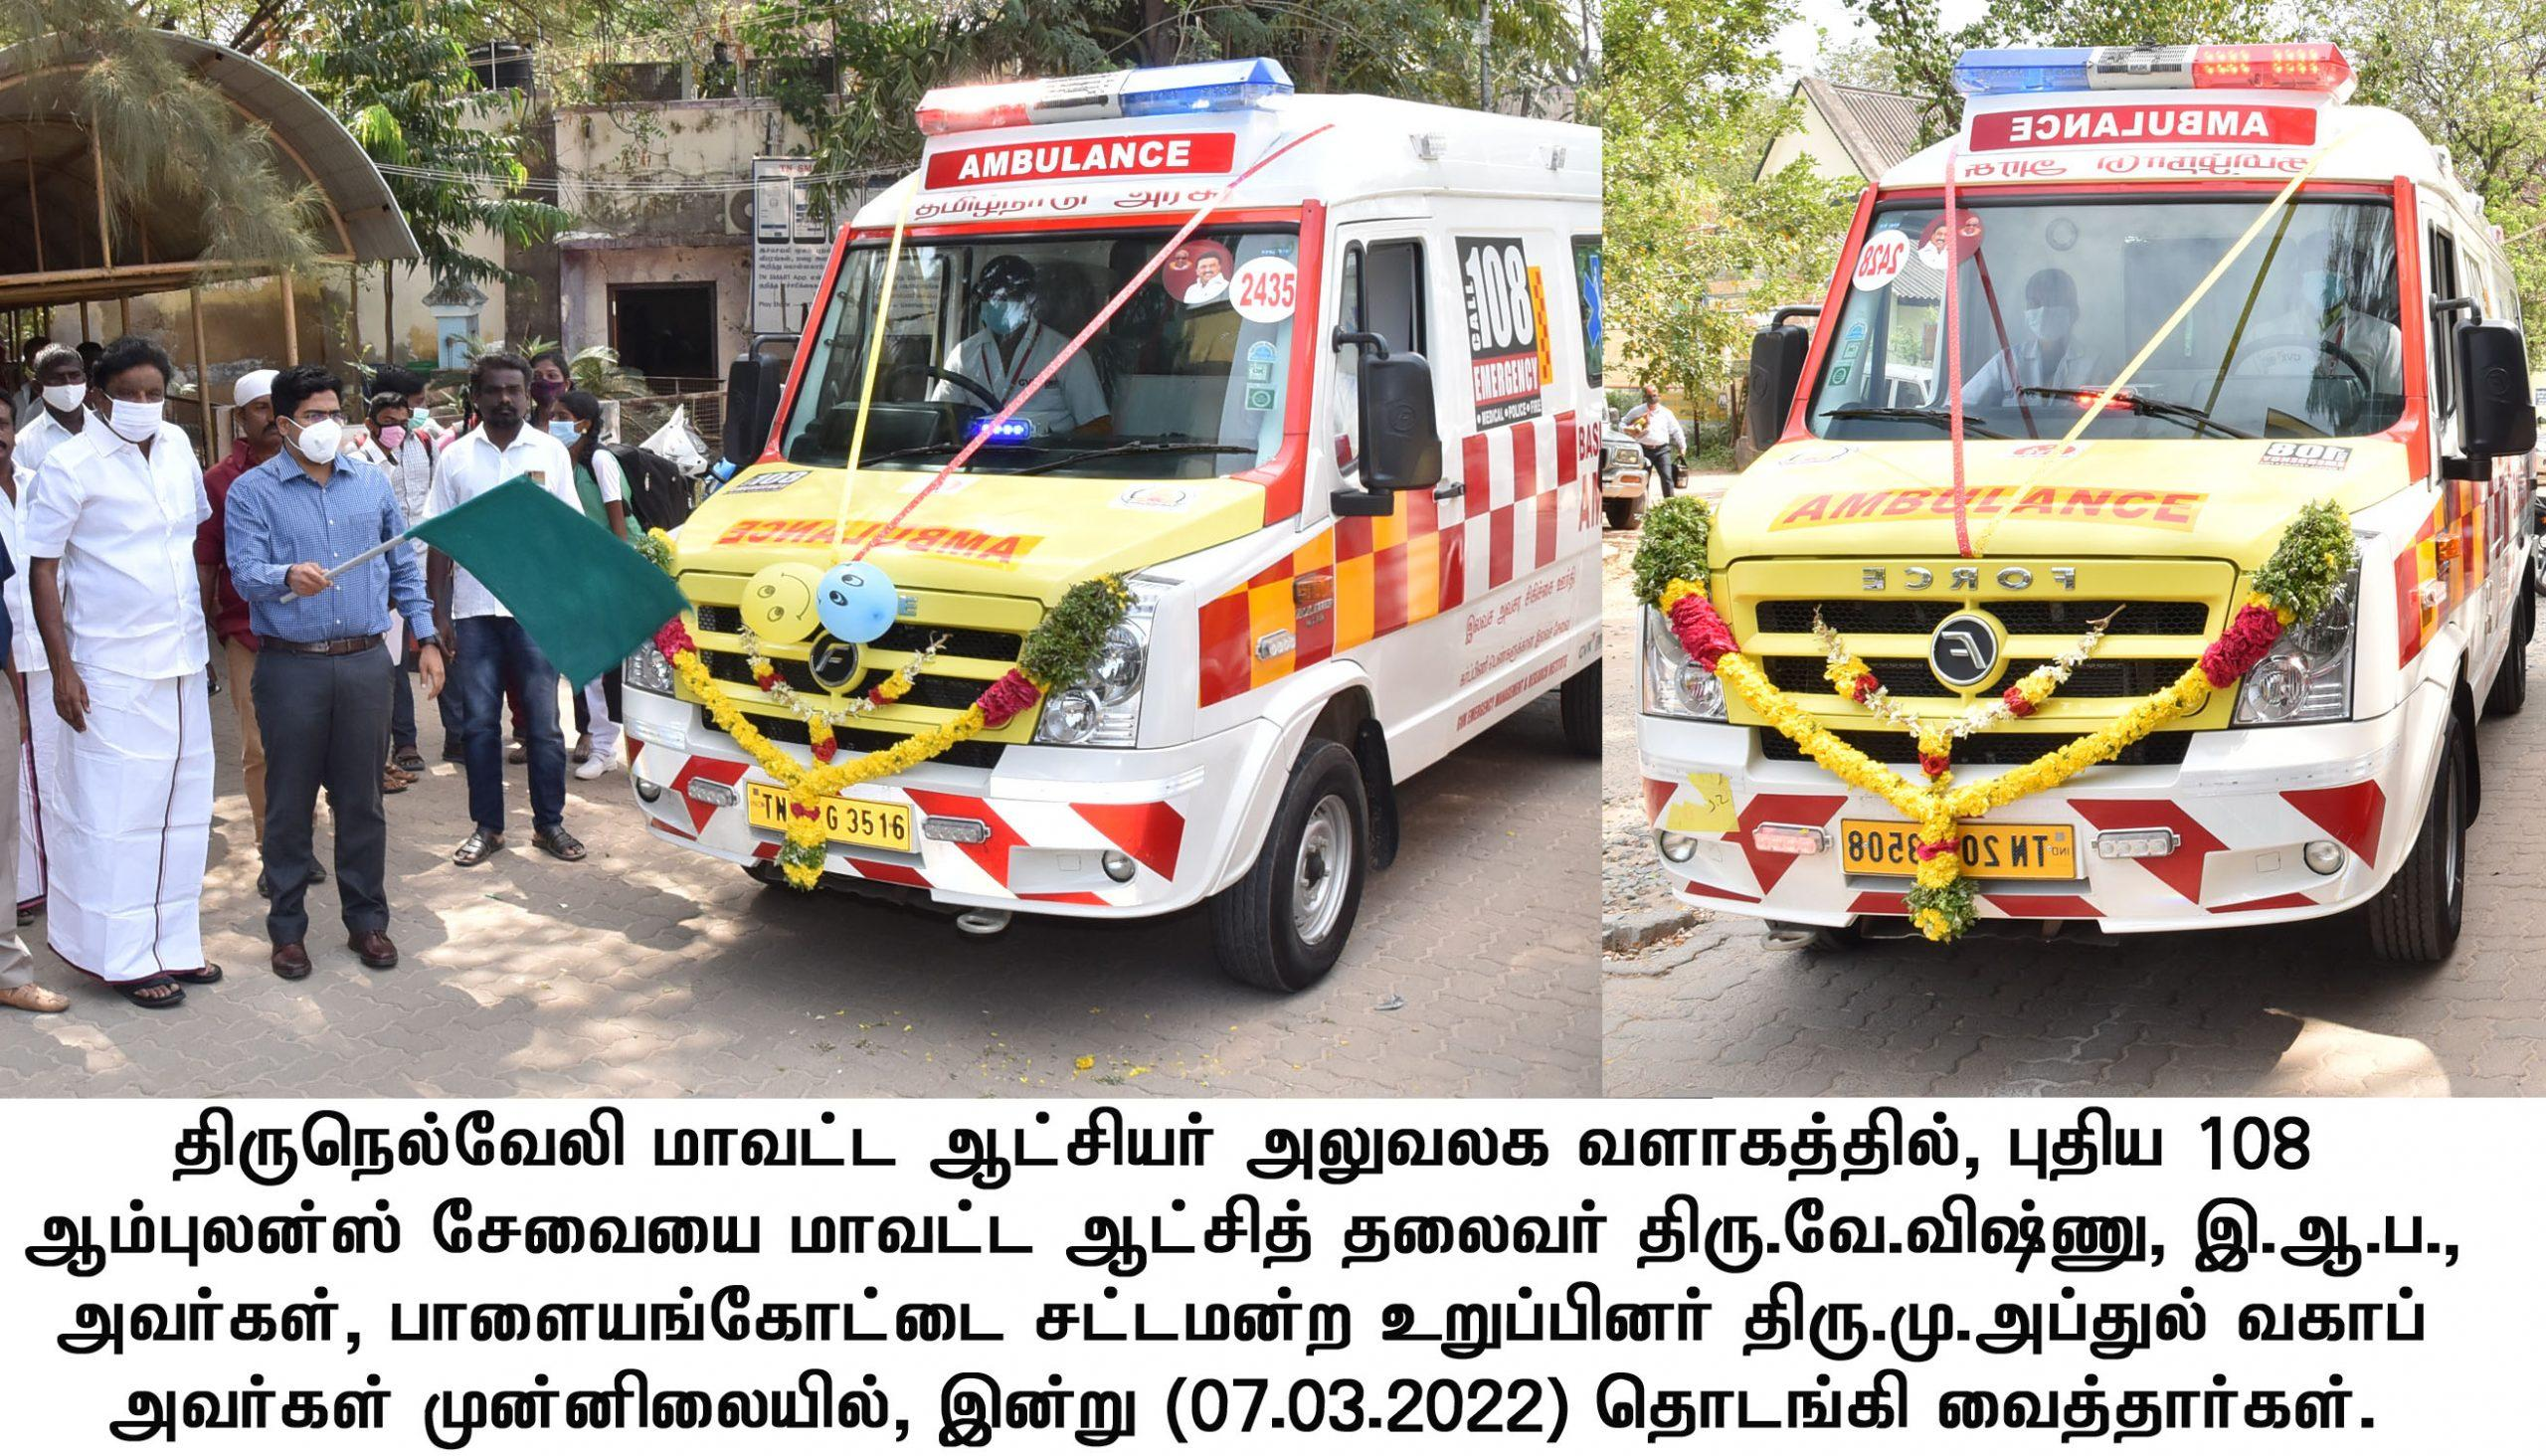ER: (621, 68, 1590, 1023), (1635, 42, 2523, 935)
